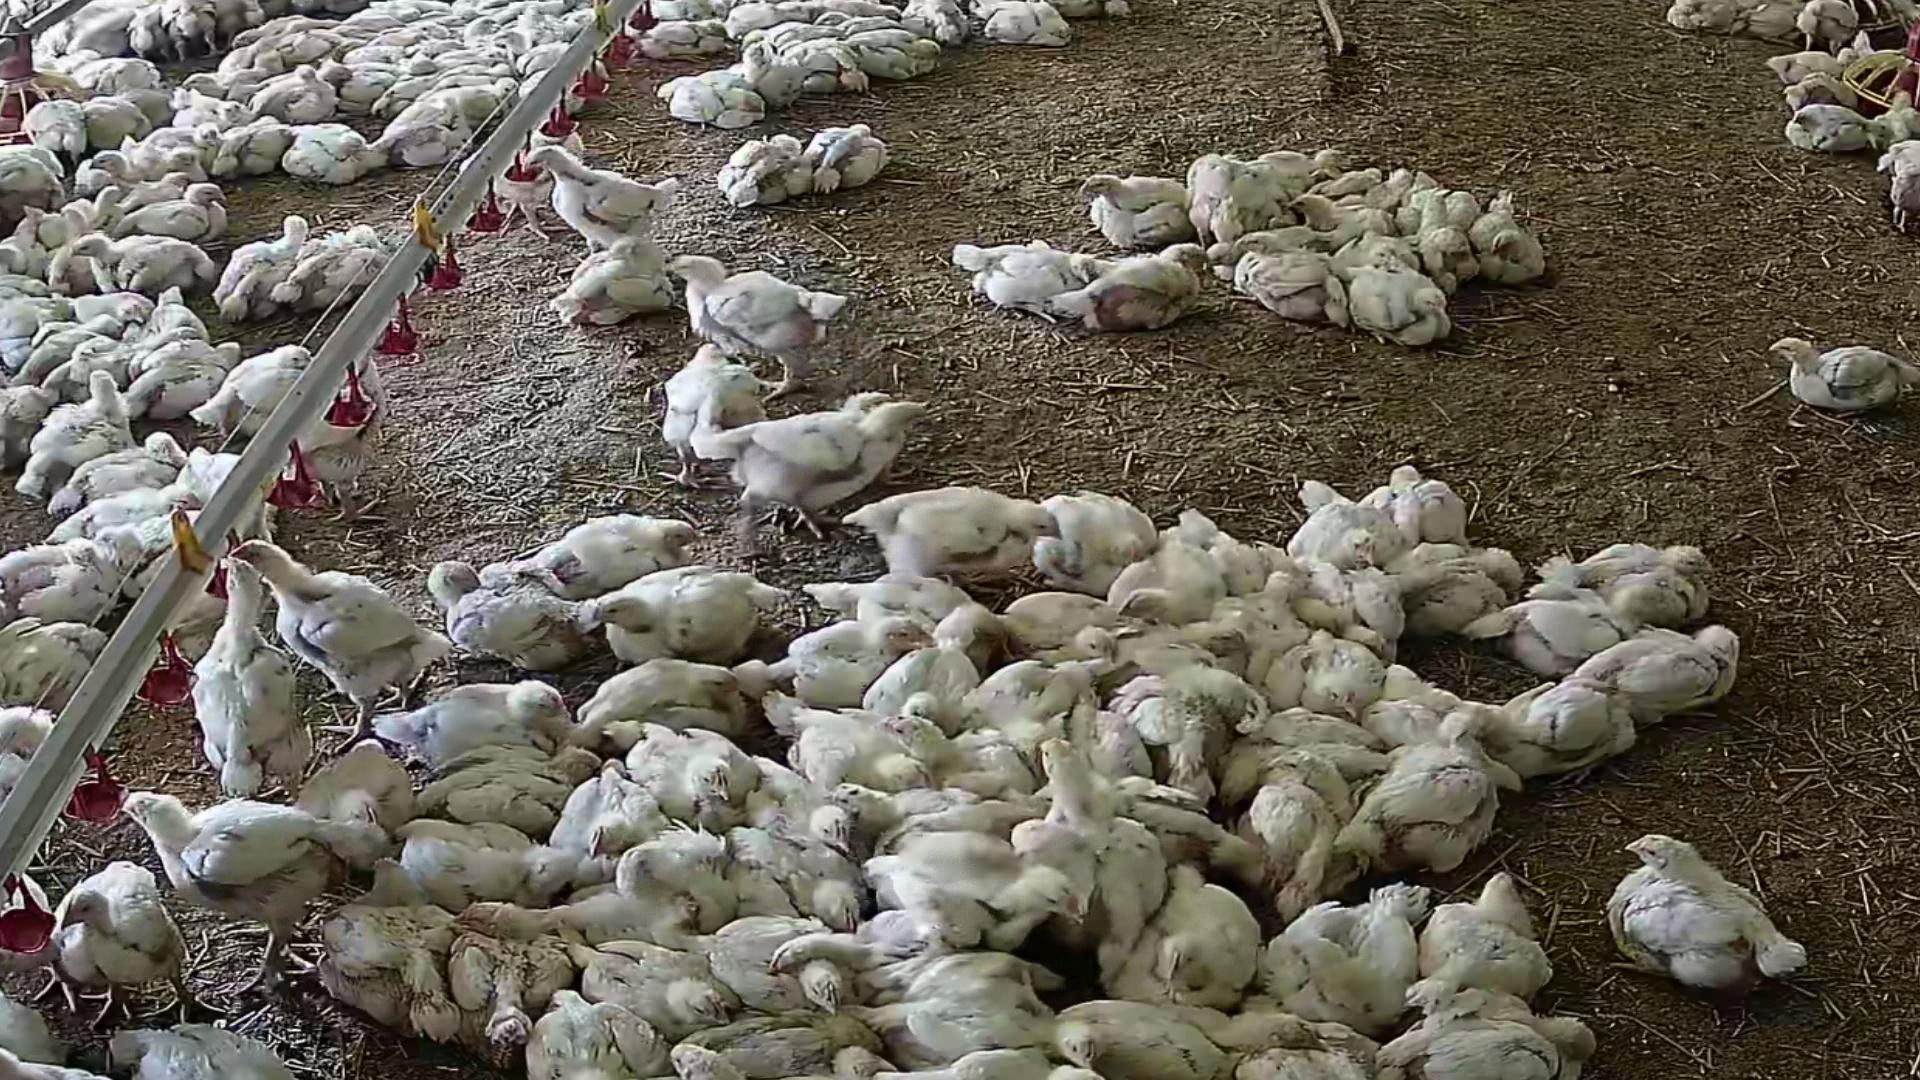poussin: (244, 542, 434, 745), (121, 798, 336, 957), (1022, 740, 1168, 964), (712, 386, 930, 535), (1611, 832, 1803, 1000), (870, 833, 1083, 955), (49, 861, 212, 1017), (657, 248, 823, 389), (1254, 881, 1428, 1006), (1358, 716, 1510, 858), (872, 957, 1079, 1055), (1398, 868, 1549, 994), (864, 480, 1052, 582), (349, 852, 448, 1040), (207, 556, 282, 804), (1126, 873, 1262, 1010), (597, 562, 785, 657), (1389, 992, 1581, 1080), (435, 742, 607, 841), (525, 149, 692, 247), (427, 555, 584, 658), (384, 804, 545, 903), (1258, 731, 1344, 915), (1581, 618, 1753, 709), (1485, 676, 1648, 771), (1143, 649, 1247, 798), (298, 342, 381, 527), (1067, 1011, 1316, 1072), (670, 334, 766, 488), (578, 939, 733, 1034), (574, 658, 760, 737), (773, 691, 923, 789), (386, 673, 564, 754), (1039, 475, 1164, 588), (626, 713, 756, 823), (770, 905, 968, 975), (530, 982, 670, 1079), (555, 229, 679, 338), (472, 120, 578, 247), (1549, 542, 1729, 616), (111, 1015, 310, 1080), (985, 588, 1158, 662), (982, 647, 1113, 745), (1764, 338, 1920, 417), (749, 824, 861, 932), (21, 377, 129, 487), (547, 513, 704, 588), (709, 918, 847, 1004), (771, 618, 922, 695), (872, 633, 971, 749), (156, 526, 233, 670), (625, 828, 738, 924), (1225, 240, 1338, 336), (1406, 545, 1509, 649), (1220, 559, 1303, 687), (0, 617, 113, 711), (819, 560, 971, 630), (306, 741, 414, 837), (0, 847, 65, 1006), (944, 241, 1091, 311), (1097, 542, 1246, 611), (885, 704, 1000, 793), (203, 351, 309, 446), (467, 939, 549, 1060), (1221, 1018, 1381, 1080), (1327, 549, 1414, 662), (0, 541, 99, 640), (559, 762, 655, 861), (1263, 629, 1390, 703), (764, 746, 851, 853), (1072, 248, 1216, 313), (1477, 596, 1627, 657), (225, 214, 316, 311), (463, 891, 671, 934), (789, 117, 899, 196), (1084, 171, 1187, 255), (1345, 270, 1451, 349), (1185, 148, 1288, 228), (1163, 505, 1262, 588), (59, 434, 171, 506), (711, 129, 811, 208), (70, 232, 203, 291), (688, 1005, 878, 1046), (1378, 661, 1487, 731), (309, 222, 397, 307), (54, 483, 185, 538), (372, 100, 476, 169), (1290, 485, 1373, 571), (651, 75, 775, 132), (0, 357, 69, 458), (1484, 196, 1556, 287), (189, 454, 270, 534), (117, 367, 236, 422), (829, 781, 978, 824), (286, 124, 385, 187), (1414, 207, 1477, 306), (741, 46, 872, 94), (886, 1048, 1098, 1077), (120, 182, 227, 236), (1382, 462, 1457, 538), (0, 702, 65, 790), (24, 315, 116, 367), (129, 334, 248, 372), (210, 123, 289, 179), (669, 1044, 823, 1073), (32, 98, 99, 164), (985, 8, 1080, 54), (1787, 104, 1884, 149), (0, 1043, 117, 1080), (142, 286, 212, 345), (87, 531, 154, 592), (851, 40, 945, 82), (3, 211, 53, 289), (1300, 195, 1385, 241), (1342, 165, 1425, 211), (0, 164, 70, 218), (1792, 0, 1858, 55), (65, 7, 133, 59), (1739, 0, 1799, 58), (84, 95, 157, 140), (505, 32, 576, 76), (443, 82, 521, 123), (112, 170, 199, 206), (1328, 236, 1432, 265), (227, 15, 322, 46), (258, 71, 335, 109), (914, 0, 967, 55), (0, 295, 70, 336), (171, 0, 220, 58), (41, 203, 99, 252), (125, 142, 211, 175), (0, 141, 76, 178), (1669, 0, 1738, 41), (119, 87, 185, 129), (1887, 131, 1920, 215), (815, 1044, 891, 1080), (1783, 75, 1862, 109), (1853, 30, 1909, 78), (125, 3, 170, 62), (636, 22, 748, 46), (746, 26, 857, 50), (1774, 53, 1858, 83), (74, 145, 127, 191), (377, 74, 436, 113), (80, 291, 161, 320), (70, 49, 121, 94), (1879, 88, 1920, 142), (1309, 166, 1389, 194), (1440, 181, 1486, 227), (231, 49, 286, 87), (70, 185, 117, 228), (218, 37, 269, 76), (149, 127, 218, 156), (1205, 237, 1244, 285), (119, 55, 165, 94), (41, 46, 91, 79), (654, 0, 731, 20), (822, 15, 905, 32), (705, 8, 808, 21), (803, 0, 906, 13), (278, 40, 331, 65), (323, 61, 411, 75), (438, 74, 501, 91), (183, 73, 233, 94), (189, 104, 251, 120), (458, 15, 497, 37), (440, 49, 487, 67), (347, 46, 407, 58), (371, 32, 429, 44), (328, 25, 380, 37), (339, 37, 367, 54), (356, 8, 425, 15), (339, 17, 402, 24)
